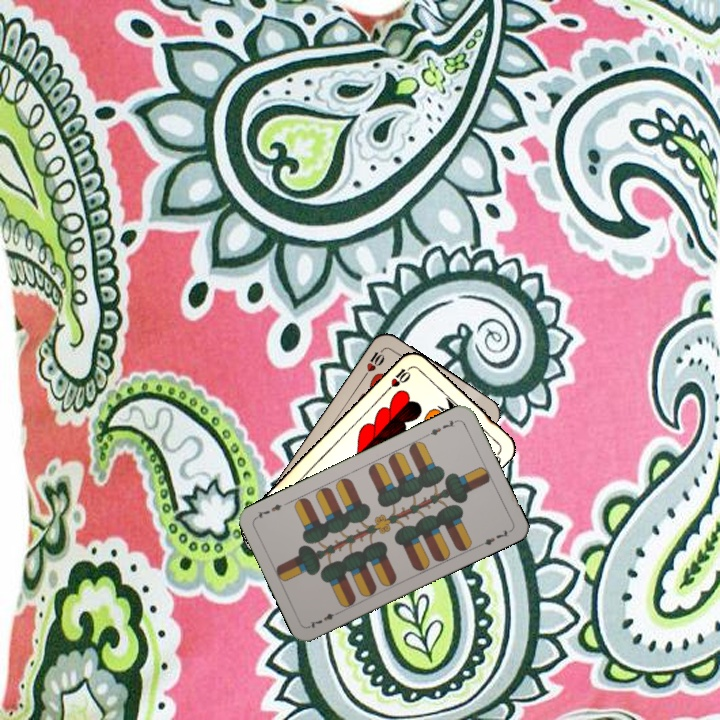E7: (305, 607, 343, 631), (422, 416, 460, 439)
H10: (382, 362, 416, 394), (359, 344, 388, 380)
